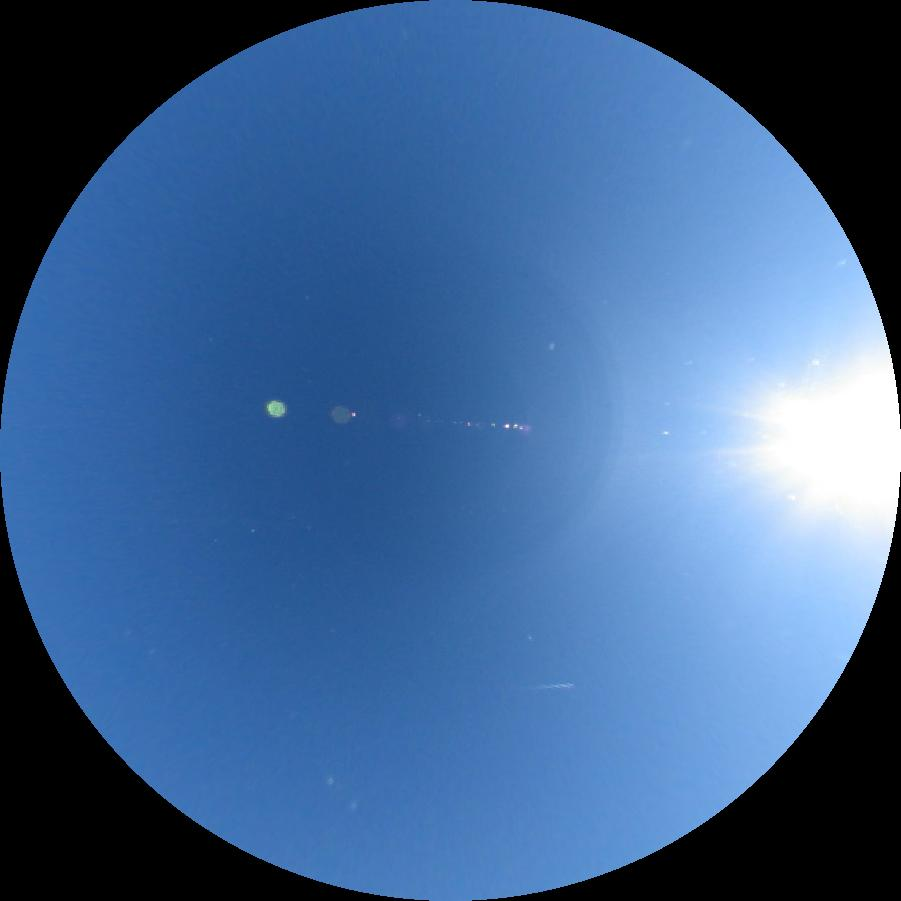contrail young: (522, 683, 574, 690)
sun: (760, 351, 900, 530)
